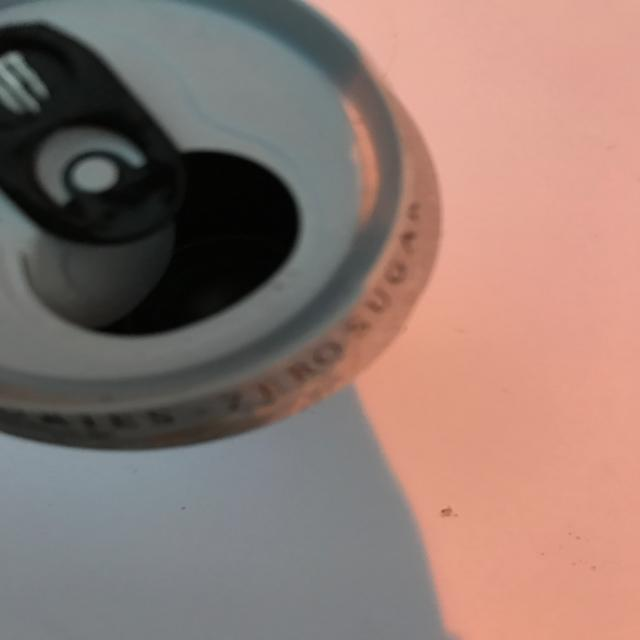Metal: (0, 0, 462, 488)
